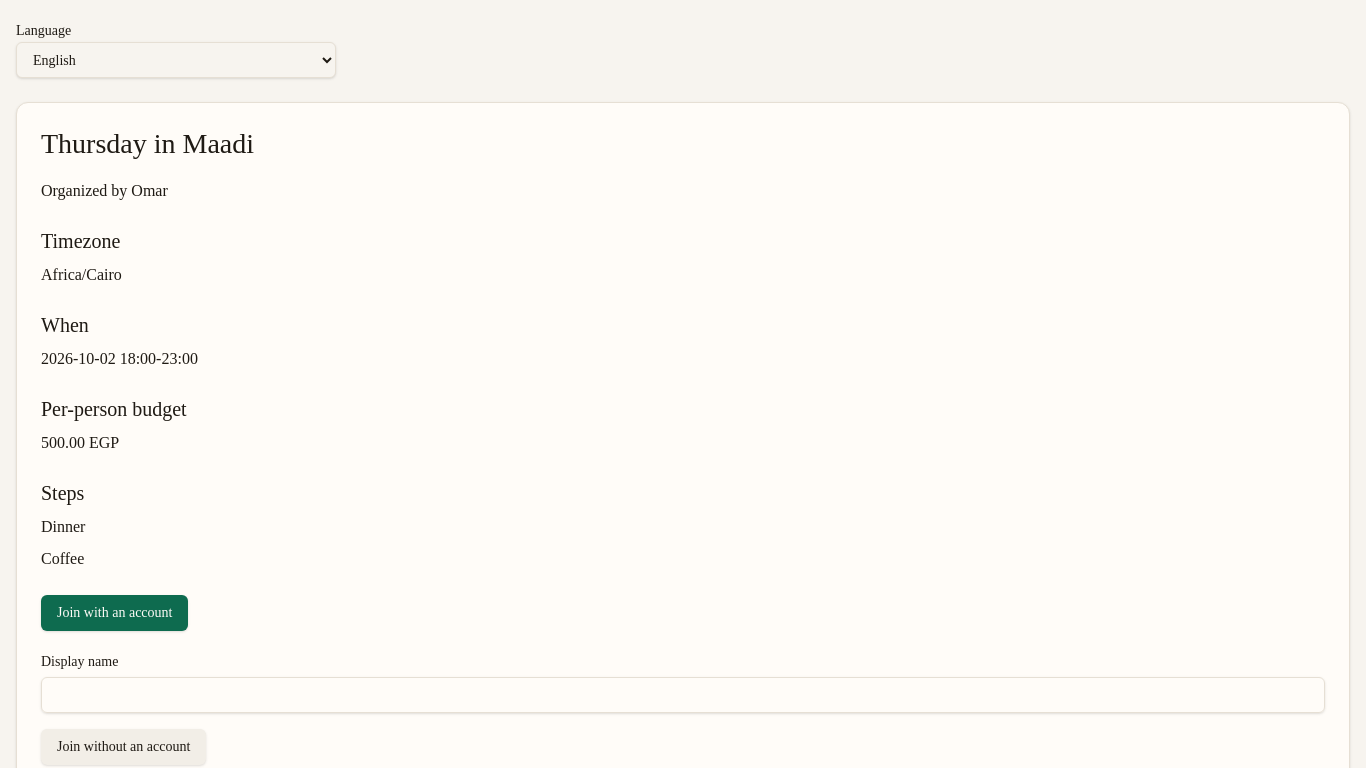
Test case: JoinPanel field blocks › T-001-100/AC-1 the display name label points at its input and the server's display name error shows in one p after the input
Expected: the heading "Thursday in Maadi" is shown, [41,128,254,159]
Type "Nour" into the field labelled "Display name" at (683, 695), box [41,677,1325,713]
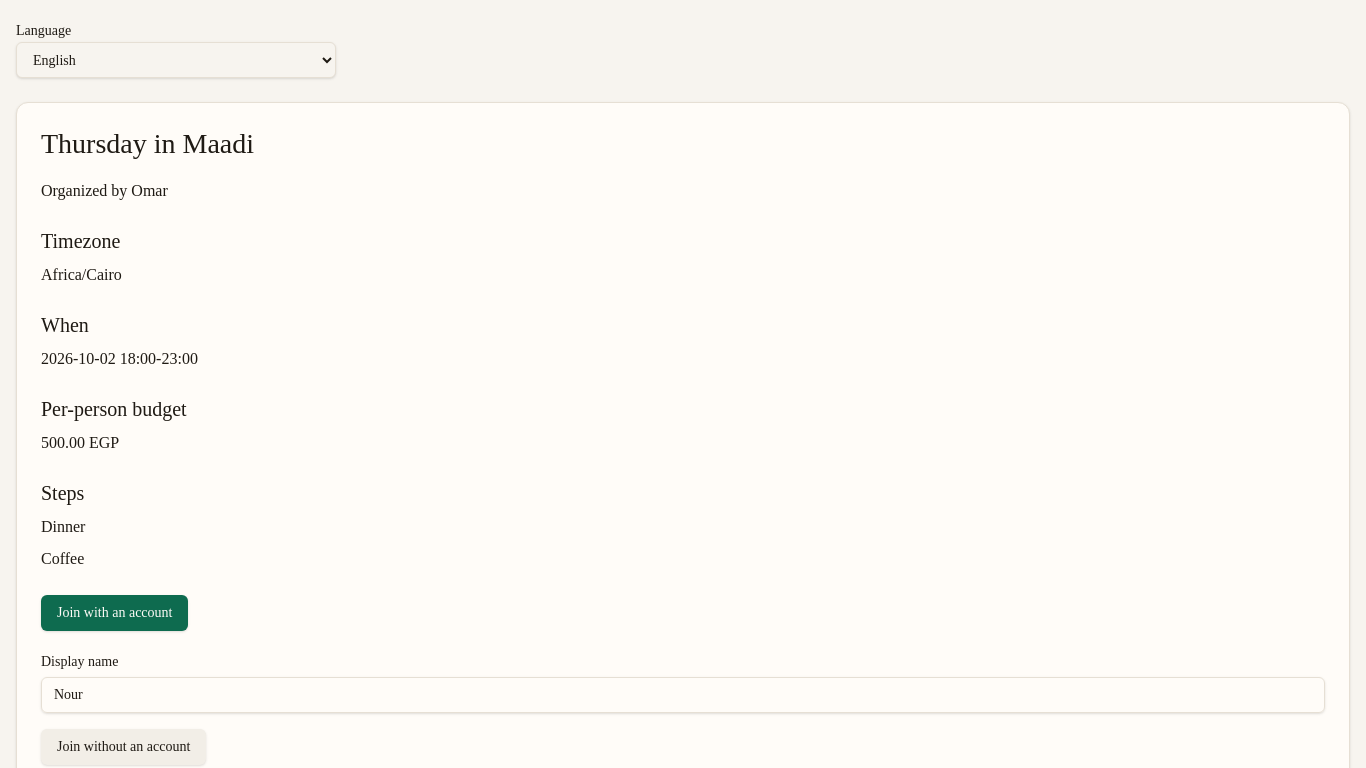
Click the button "Join without an account" at (124, 747), box [41,729,206,765]
(page scrolled)
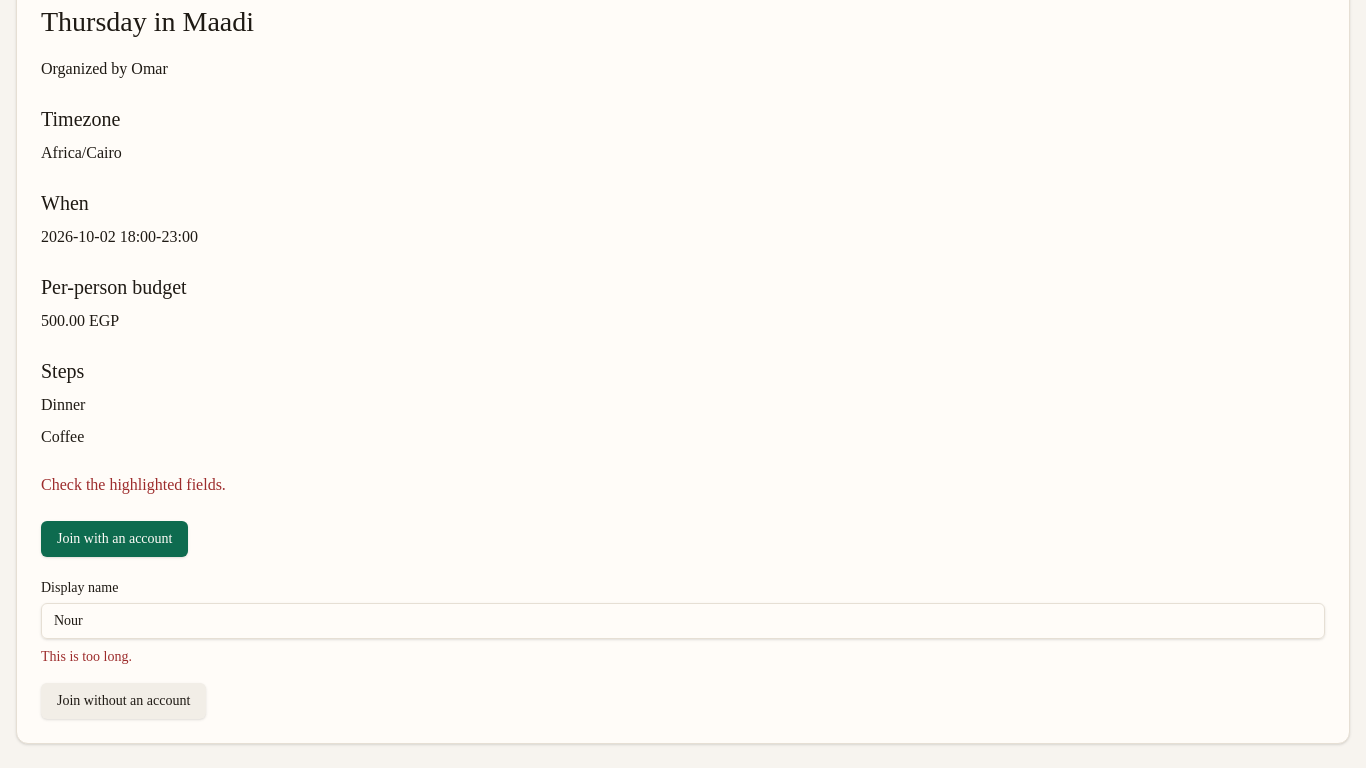
Expected: the number of elements with id "hp-join-display-name-error" is 1, [41,649,132,664]
Expected: the text with id "hp-join-display-name-error" reads "This is too long.", [41,649,132,664]
